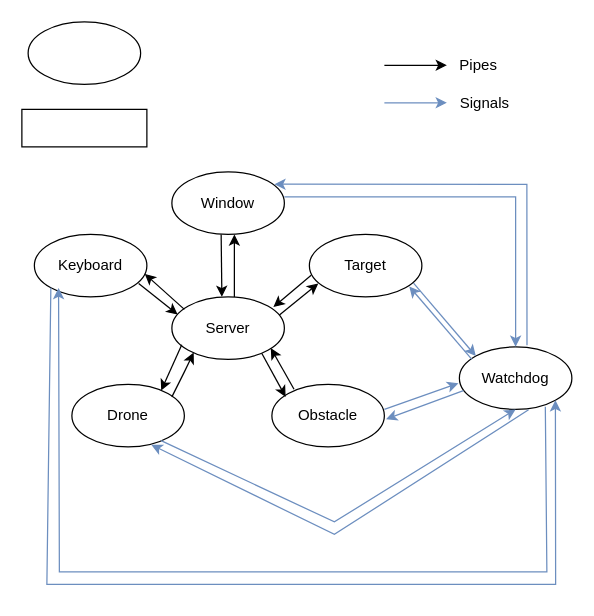
The diagram is 594 pixels wide and 616 high, and some of its shapes have lost their labels. Here are the shapes that lost their labels. From the top down, the centre of each, then its label:
At [84,52]: "Master".
At [84,127]: "Logfile".
